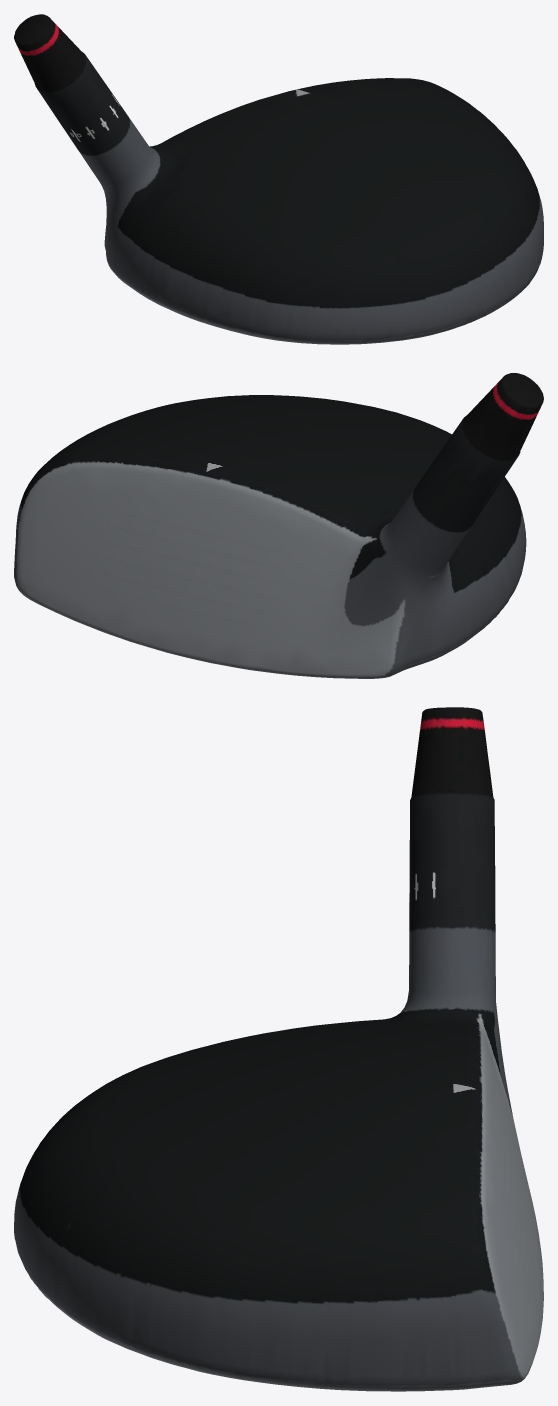
3 views of the same model, one above another, from view 1: azimuth 30°, elevation 25°; view 2: azimuth 150°, elevation 25°; view 3: azimuth 270°, elevation 25° (orthographic). The views are drawn at different scales.
Parts seen in each view (by area): view 1: head; view 2: head; view 3: head.
Part boxes in pixels (left/top/right/bottom): head: left=14, top=14, right=543, bottom=344; head: left=14, top=373, right=543, bottom=678; head: left=14, top=707, right=543, bottom=1391.
Size of the model in its own units: 0.1221 by 0.0736 by 0.0853.
Materials: 1 (1 with a texture image).
